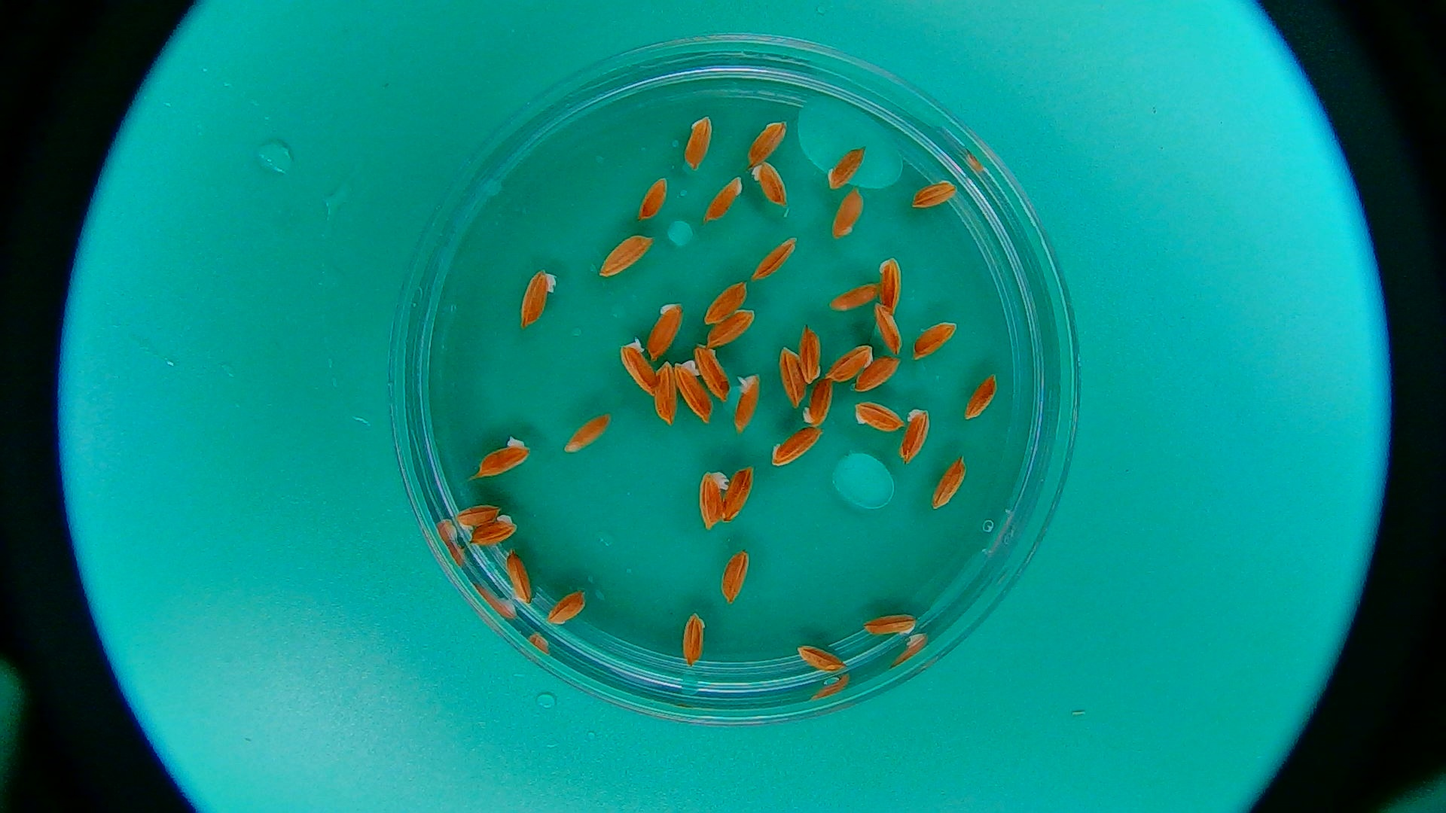no: (888, 403, 934, 470), (615, 337, 659, 405), (697, 168, 745, 230), (739, 116, 791, 168), (704, 299, 756, 351), (747, 158, 794, 214), (703, 278, 753, 330), (600, 233, 656, 279), (673, 359, 712, 425), (623, 173, 673, 224), (751, 231, 801, 282), (645, 299, 684, 361), (822, 340, 874, 384), (565, 409, 614, 454), (827, 190, 870, 241), (850, 352, 901, 395), (770, 425, 823, 466), (792, 640, 850, 677), (850, 396, 902, 437), (958, 370, 999, 422), (929, 454, 967, 510), (720, 465, 756, 524), (503, 550, 539, 609), (853, 611, 923, 641), (790, 327, 826, 385), (876, 255, 908, 318), (467, 510, 517, 550), (480, 437, 528, 478), (697, 468, 728, 531), (520, 267, 554, 324), (910, 319, 958, 359), (828, 144, 869, 190), (831, 276, 879, 315), (801, 376, 836, 429), (870, 303, 905, 356), (775, 349, 808, 404), (909, 176, 959, 211), (679, 609, 710, 664), (657, 357, 679, 432), (719, 545, 746, 606), (685, 116, 715, 169), (453, 501, 500, 533), (547, 589, 584, 628)
yes: (732, 373, 763, 433)
